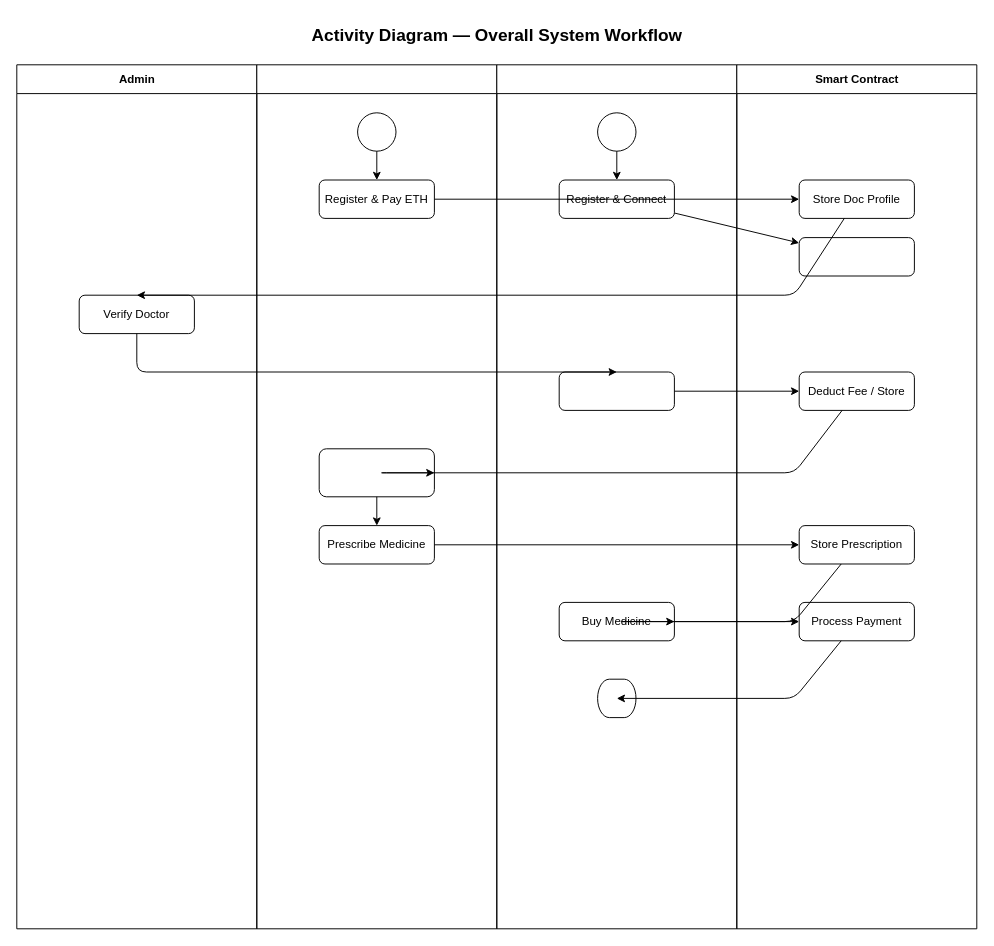
Image size: 994x946. Some labels were removed from this diagram. Here are the shapes that lost their labels. From the top down, the box of each, then its label:
(798, 237, 914, 276): Store Pat Profile
(558, 371, 674, 410): Book Appointment
(318, 448, 434, 497): Consult & Update Record
(256, 64, 497, 929): Doctor
(496, 64, 737, 929): Patient
